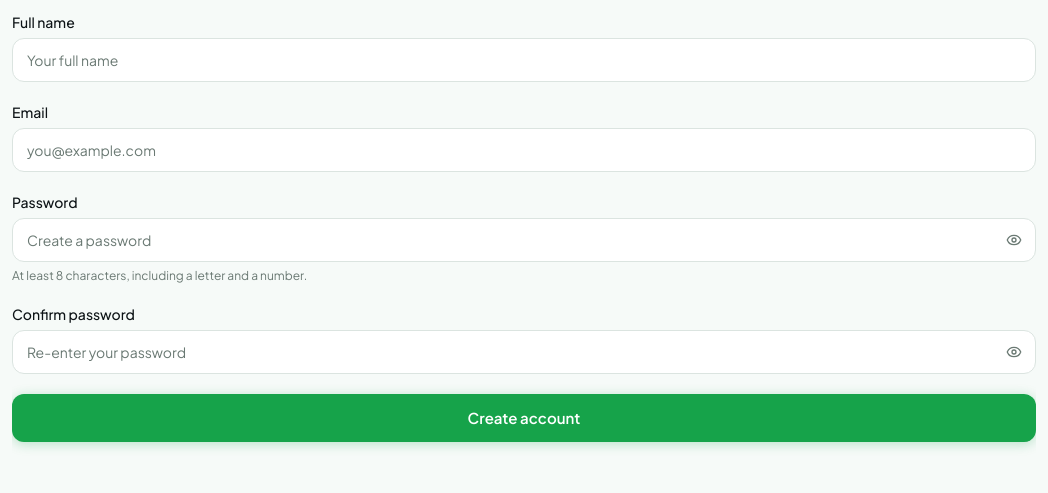
RegisterForm › flags mismatched password confirmation
This screenshot has width=1048, height=493.
In the field labelled "Full name": (524, 60) [12, 38, 1036, 82], type "Ada Obi"
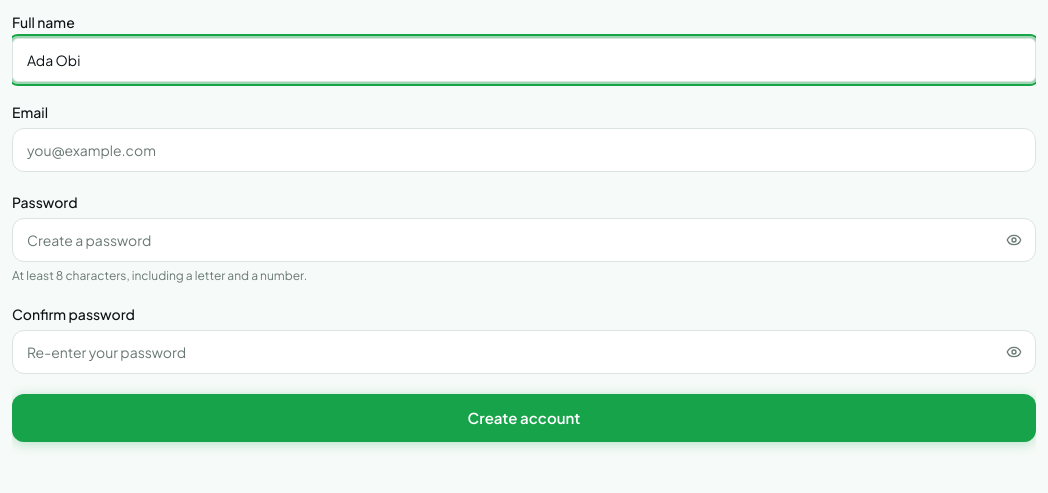
In the field labelled "Email": (524, 150) [12, 128, 1036, 172], type "ada@example.com"
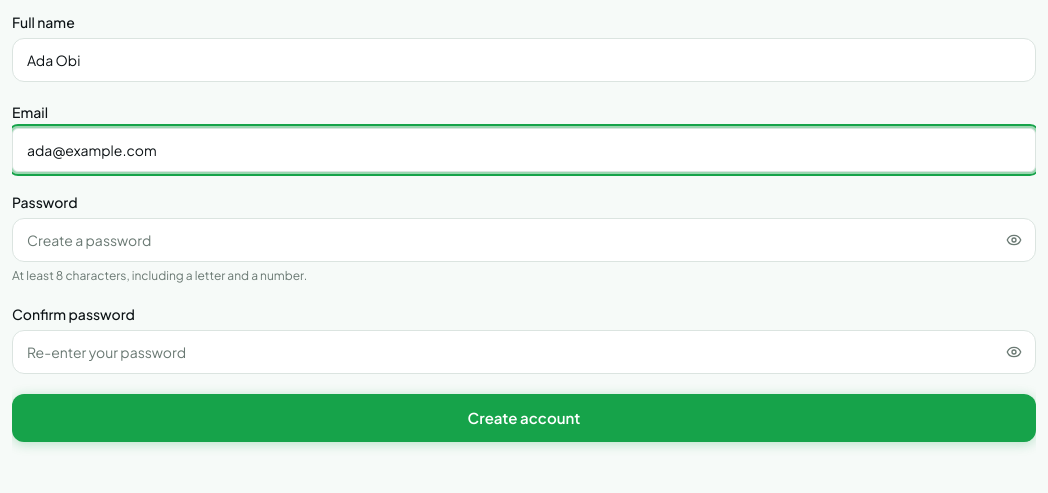
In the password field labelled "Password": (524, 240) [12, 218, 1036, 262], type "secret123"
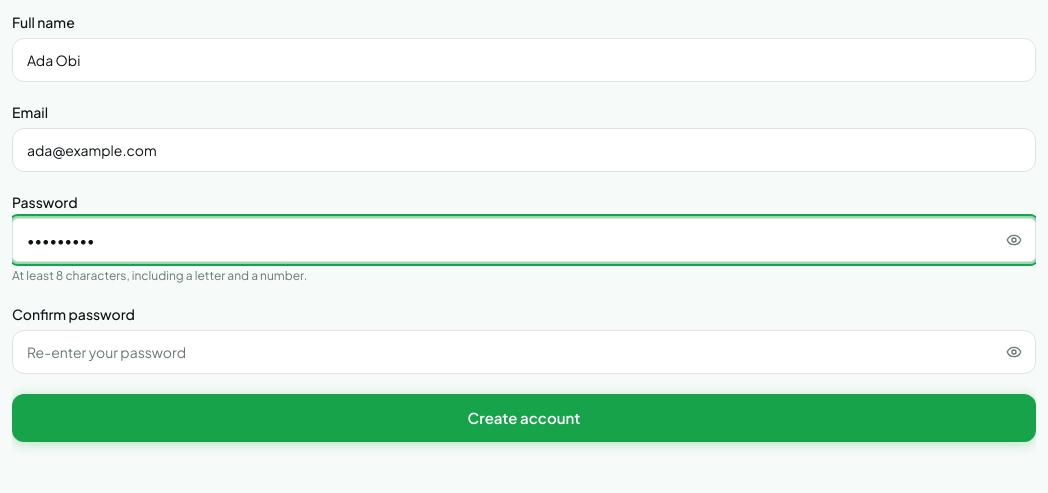
In the password field labelled "Confirm password": (524, 352) [12, 330, 1036, 374], type "different123"
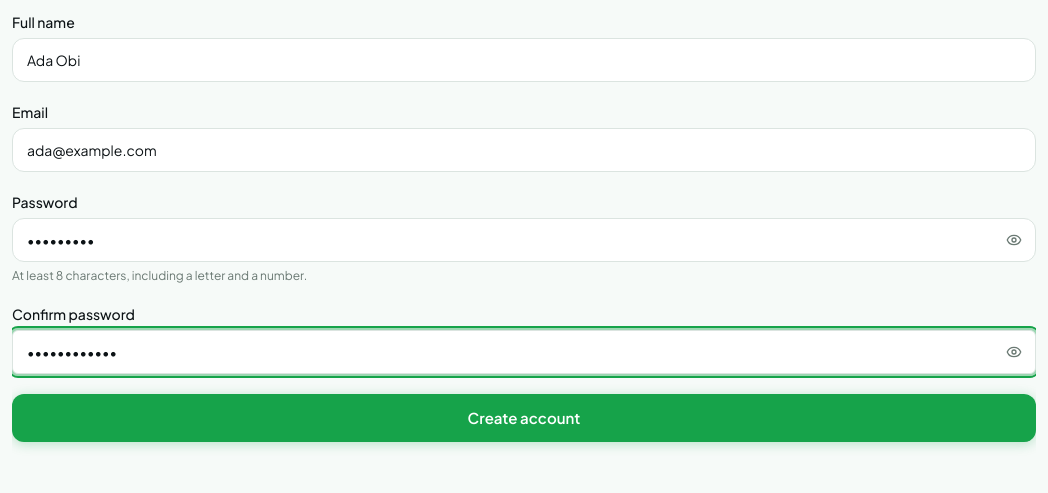
Click the button "Create account": (524, 418) [12, 394, 1036, 442]
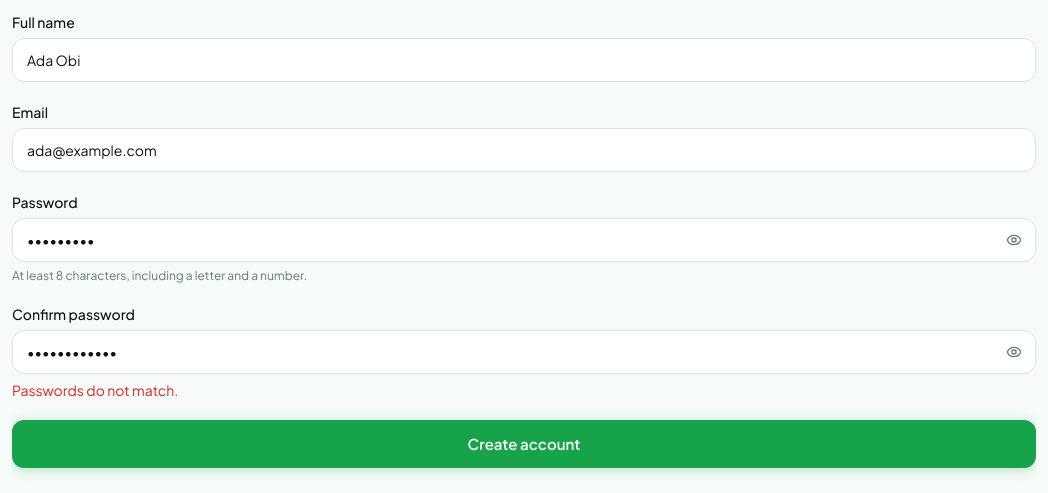
Result: the text "Passwords do not match." is shown at [12, 381, 178, 399]
